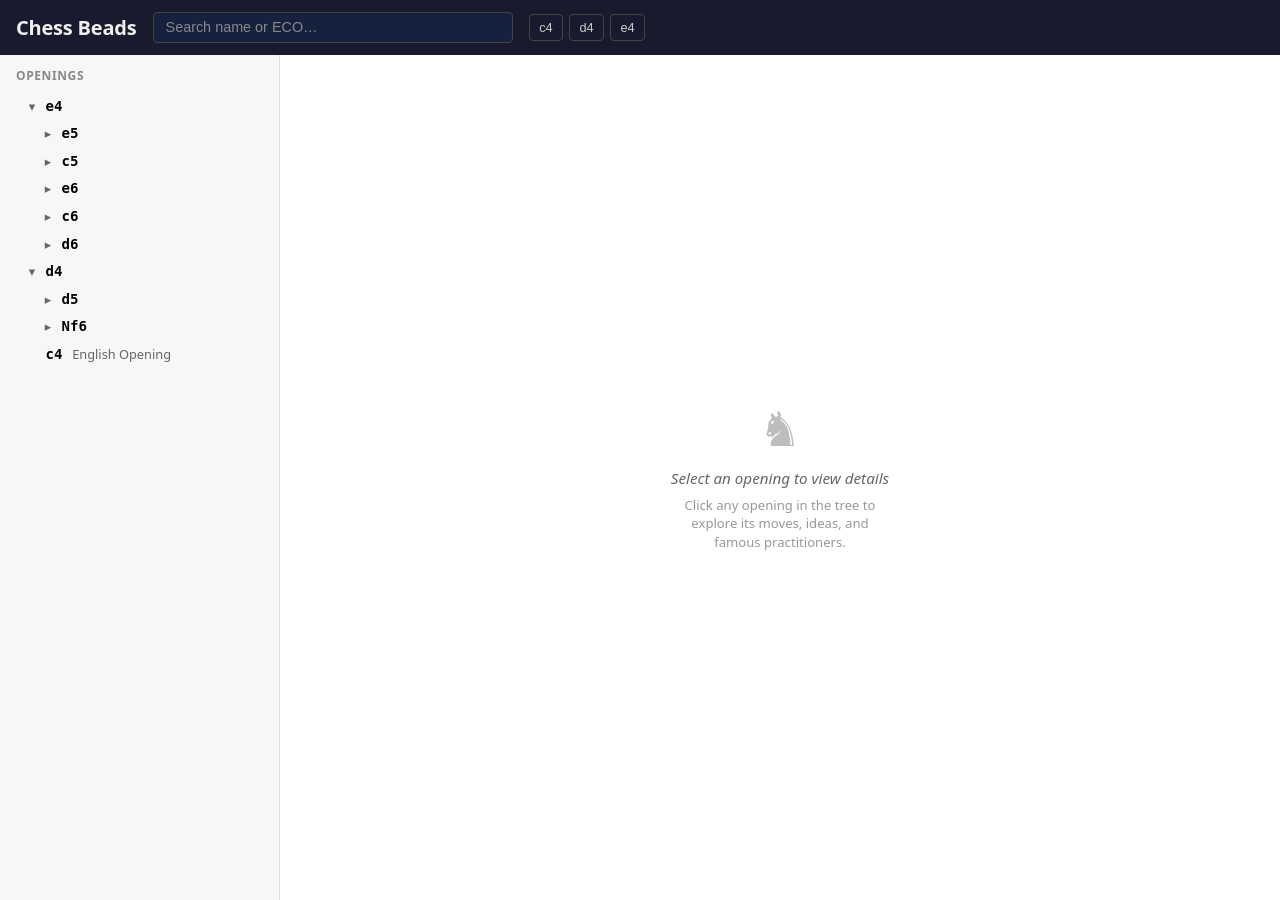
Scenario: App state management › clears selection when selected opening is filtered out
Step 1. Click the list item "c4" → coordinates (108, 354), box x1=46 y1=345 x2=171 y2=363
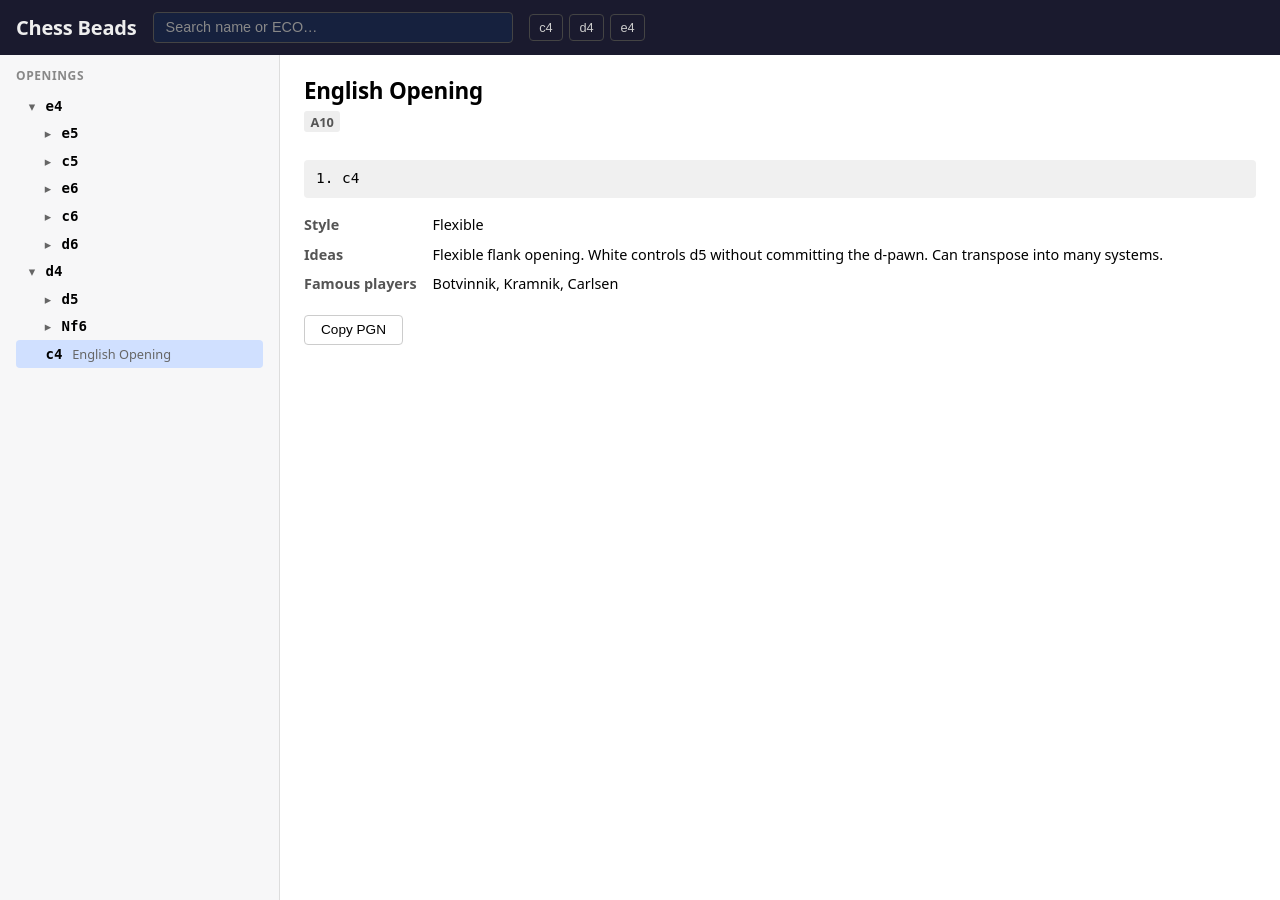
Expected: the text "A10" is shown, x1=304 y1=111 x2=340 y2=132
Note: Search for "sicilian" — English Opening doesn't match
Step 2. Type "sicilian" into the search field with placeholder "Search name or ECO…" → coordinates (332, 27), box x1=152 y1=12 x2=512 y2=43
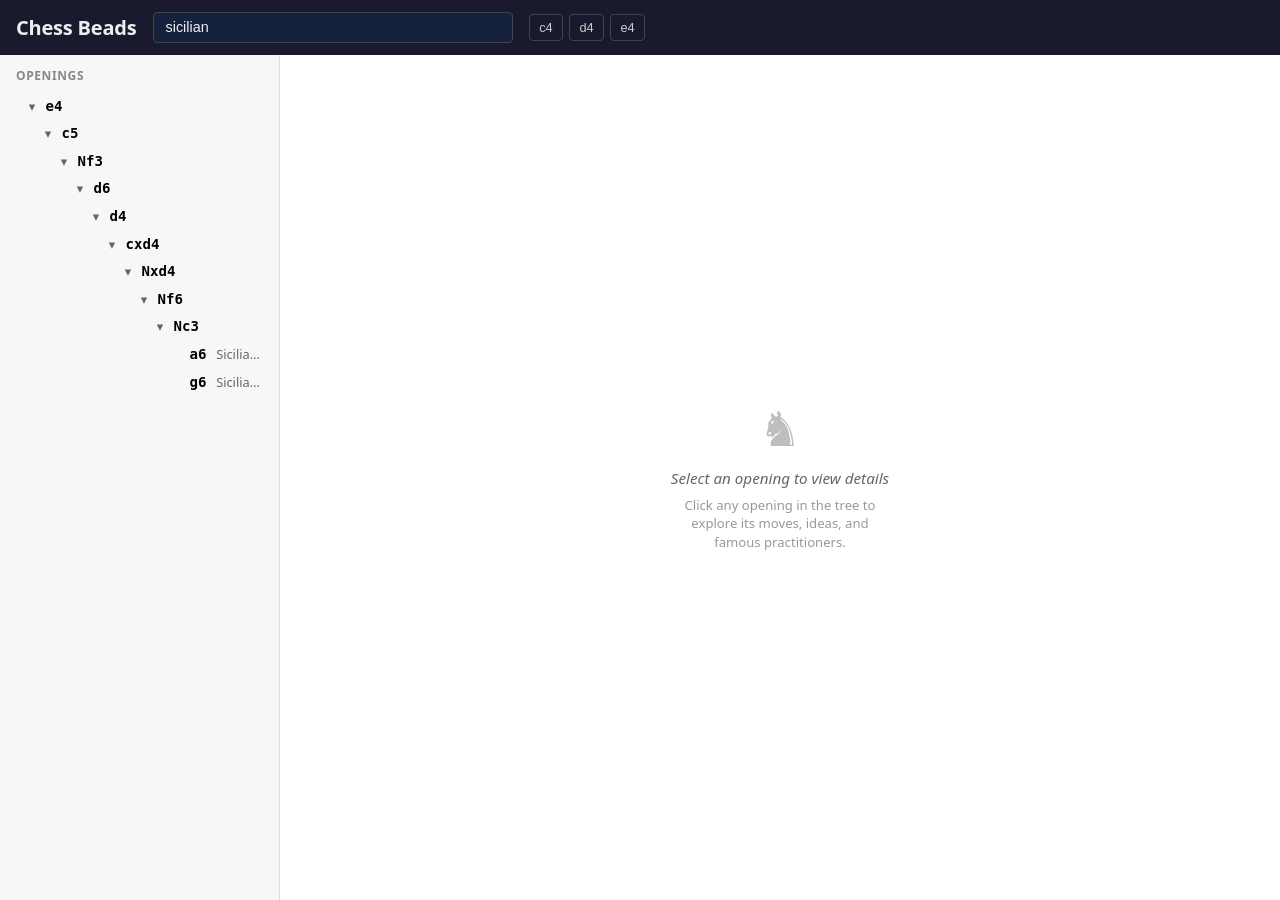
Expected: the text "Select an opening to view details" is shown, x1=671 y1=468 x2=889 y2=488
